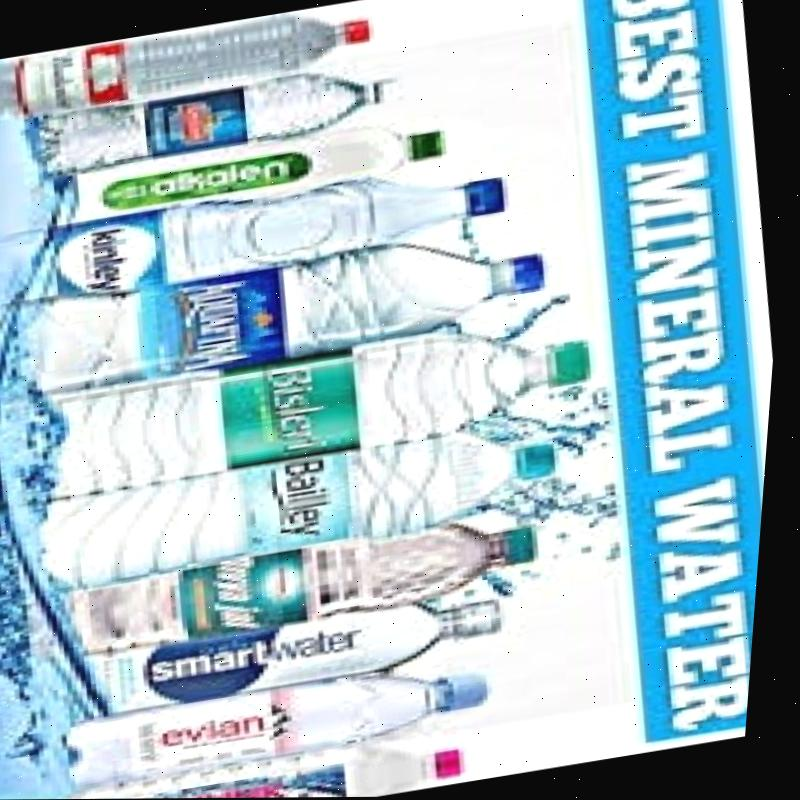botella: (6, 307, 609, 509), (3, 217, 565, 400), (30, 417, 572, 592), (32, 155, 514, 302), (78, 512, 549, 654), (67, 652, 505, 790), (88, 586, 519, 717), (0, 1, 375, 123), (62, 111, 453, 228), (35, 55, 406, 176), (75, 726, 484, 799)
